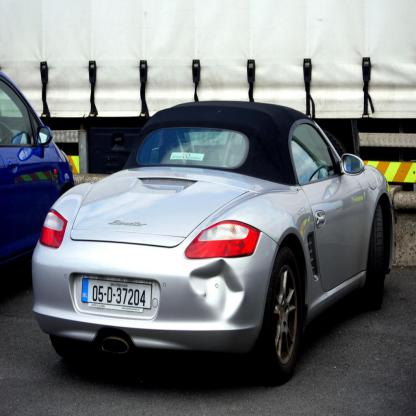door: (302, 174, 372, 292)
headlamp: (185, 222, 259, 257), (38, 210, 67, 246)
rear_bumper: (32, 226, 280, 350)
